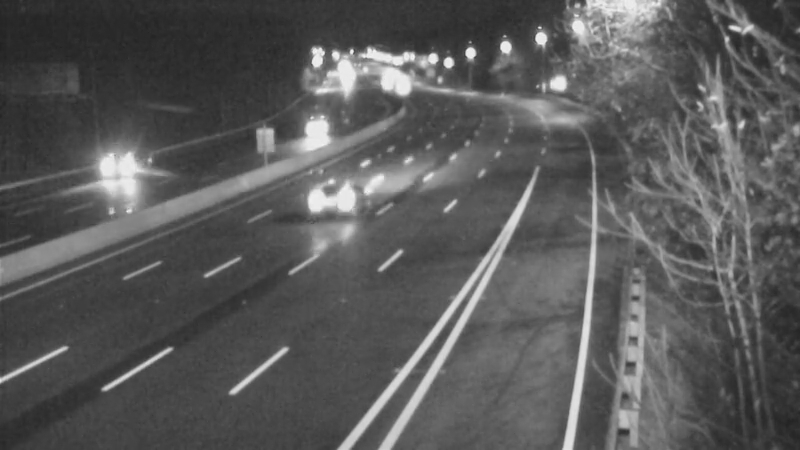vehicle: (295, 149, 375, 229), (86, 131, 166, 211), (375, 61, 425, 111), (288, 109, 338, 159)
